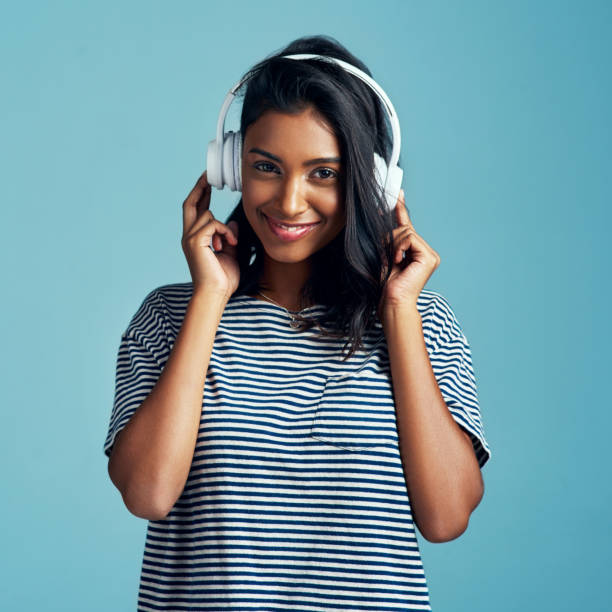face: (245, 119, 347, 262)
